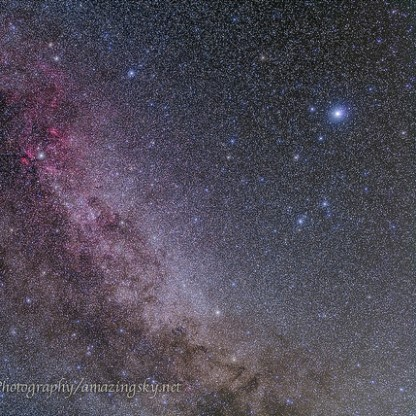Lyra: (327, 101, 349, 124), (288, 150, 303, 167), (320, 196, 333, 213), (293, 213, 305, 230), (316, 132, 327, 146), (307, 101, 316, 115)
